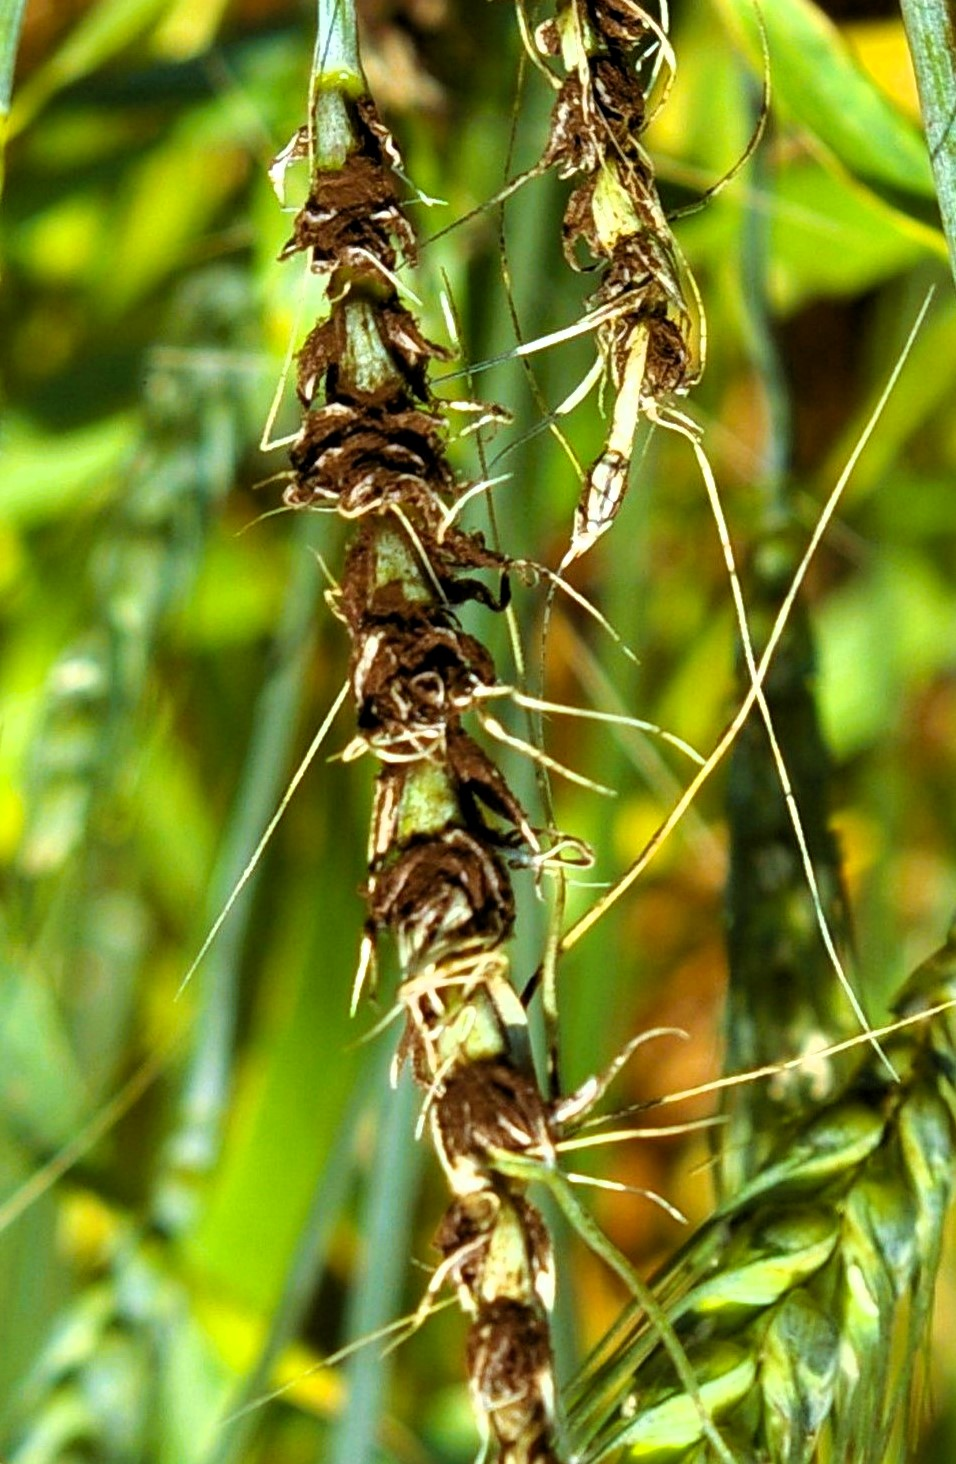Wheat Loose Smut: (245, 221, 643, 1237)
